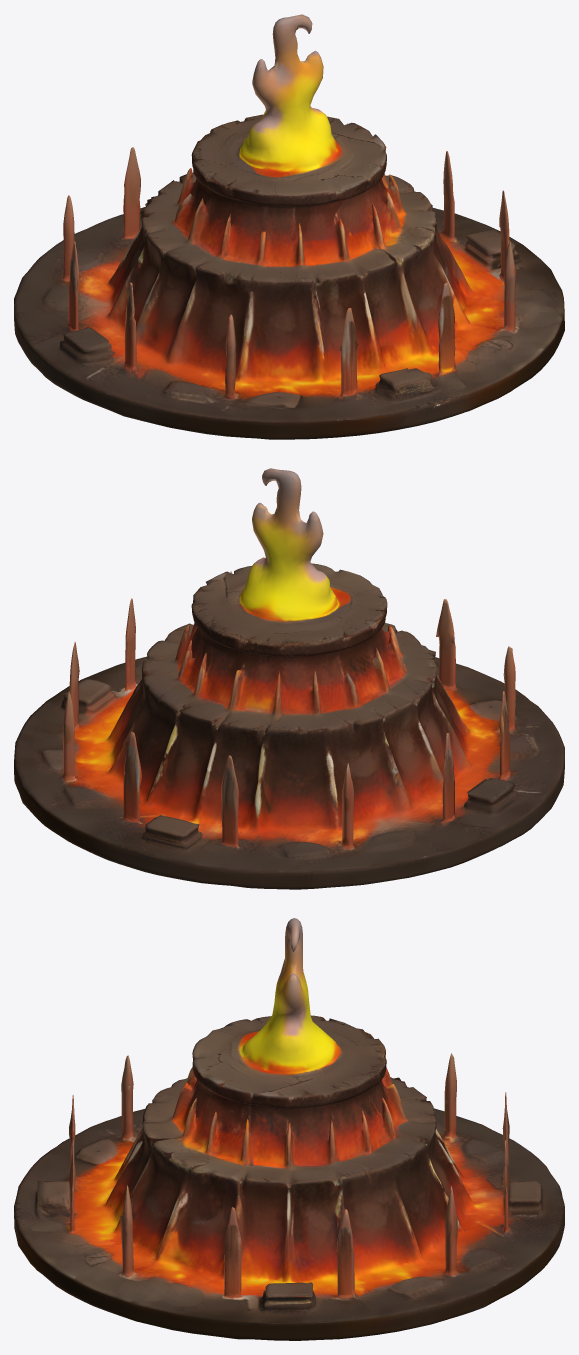
Rendered from clean-boss-altar.glb.
3 views of the same model, one above another, from view 1: azimuth 30°, elevation 25°; view 2: azimuth 150°, elevation 25°; view 3: azimuth 270°, elevation 25° (orthographic).
Parts seen in each view (by area): view 1: model; view 2: model; view 3: model.
Part boxes in pixels (box(x1,y1,x2,y2)): model: box(14, 14, 564, 439); model: box(14, 468, 564, 889); model: box(14, 918, 564, 1340).
Size of the model in its own units: 1.89 by 1.16 by 1.89.
1 material, 1 textured.
